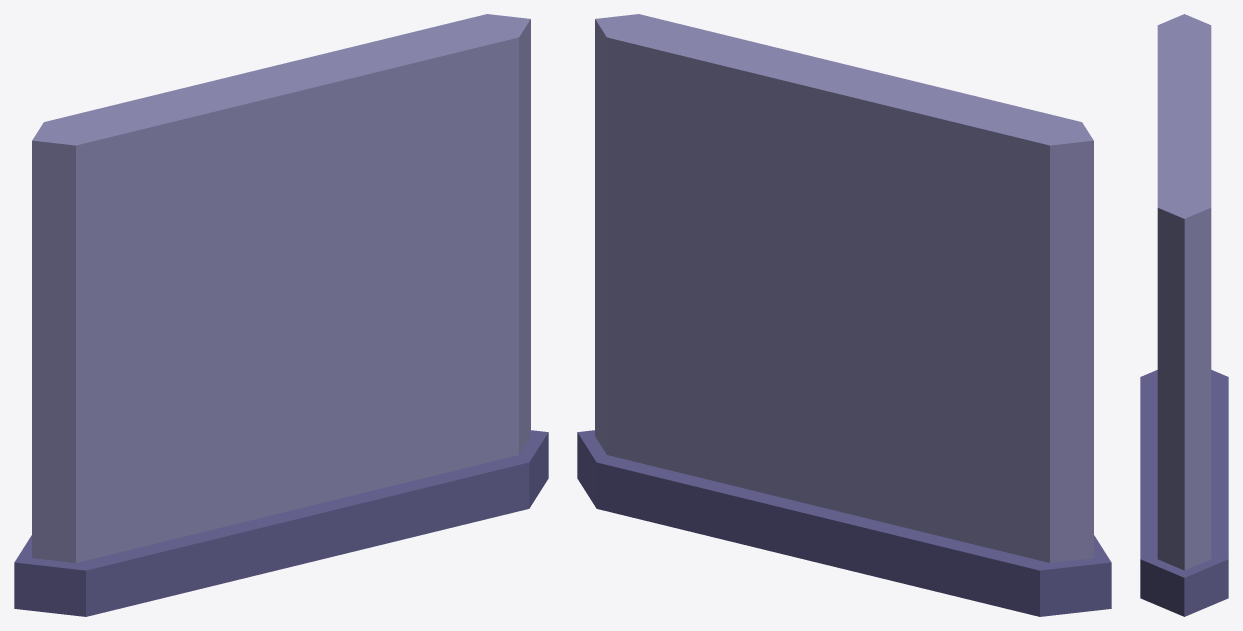
The model's file is wall_border.fbx.
The picture shows the model from 3 angles, left to right: view 1: azimuth 30°, elevation 25°; view 2: azimuth 150°, elevation 25°; view 3: azimuth 270°, elevation 25°; orthographic projection. The views are drawn at different scales.
Parts seen in each view (by area): view 1: wall_border; view 2: wall_border; view 3: wall_border.
Part boxes in pixels (x1,y1,x2,y2): wall_border: [14, 14, 548, 616]; wall_border: [577, 14, 1111, 616]; wall_border: [1140, 14, 1228, 616].
Size of the model in its own units: 12.05 by 10 by 2.05.
